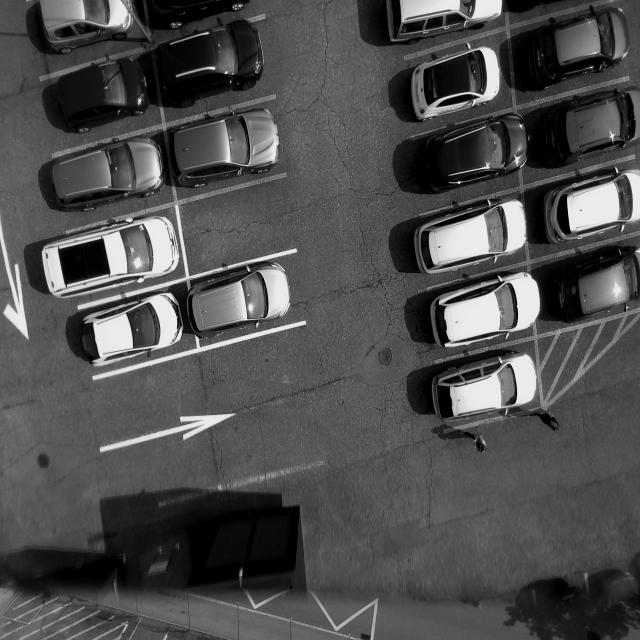car: (42, 216, 181, 299), (157, 14, 268, 111), (169, 105, 286, 192), (425, 349, 540, 432), (186, 260, 294, 346), (414, 195, 530, 275), (428, 271, 542, 348), (52, 137, 165, 214), (425, 112, 531, 194), (527, 9, 630, 91), (545, 164, 640, 247), (542, 91, 640, 170), (409, 42, 502, 125), (79, 294, 184, 366), (60, 55, 152, 136), (557, 247, 640, 325)
free_space: (174, 172, 299, 280)
